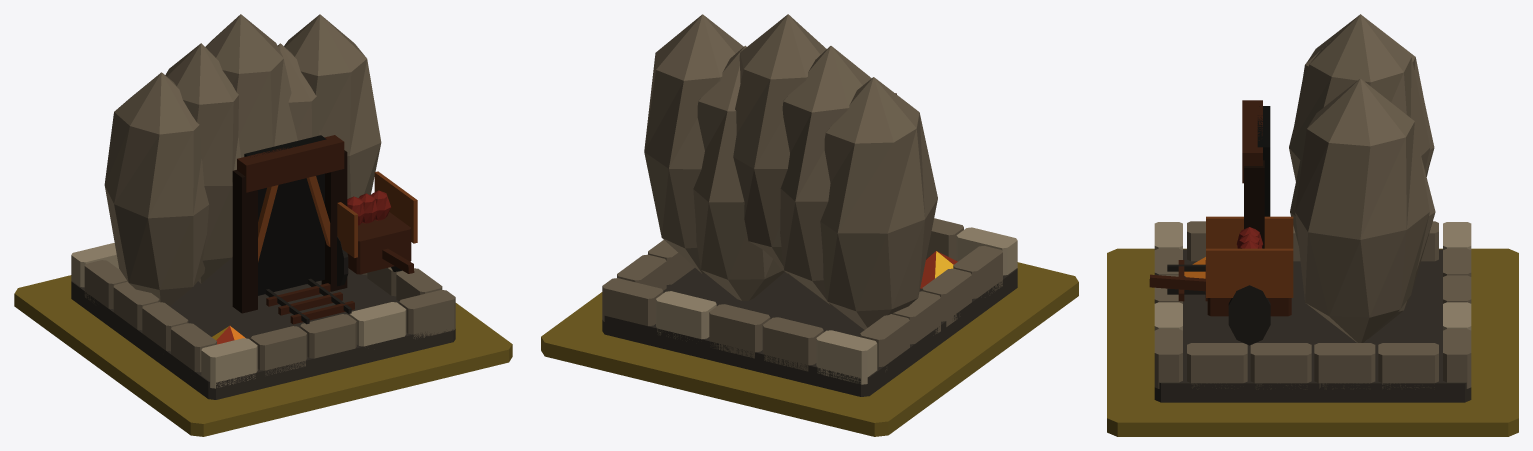
The model's file is emberglass_t3.glb.
The picture shows the model from 3 angles, left to right: view 1: azimuth 30°, elevation 25°; view 2: azimuth 150°, elevation 25°; view 3: azimuth 270°, elevation 25°; orthographic projection. The views are drawn at different scales.
Visible parts, largest first — view 1: MMR | emberglass | T03 Architecture.001, MMR | emberglass | Tier 03 Ground.001; view 2: MMR | emberglass | T03 Architecture.001, MMR | emberglass | Tier 03 Ground.001, MMR | emberglass | T03 Autumn Dressing.001; view 3: MMR | emberglass | T03 Architecture.001, MMR | emberglass | Tier 03 Ground.001.
Part boxes in pixels (x1,y1,x2,y2): MMR | emberglass | T03 Architecture.001: (71,14,455,399); MMR | emberglass | Tier 03 Ground.001: (14,275,512,436); MMR | emberglass | T03 Architecture.001: (602,14,1017,396); MMR | emberglass | Tier 03 Ground.001: (541,262,1078,436); MMR | emberglass | T03 Autumn Dressing.001: (920,251,957,288); MMR | emberglass | T03 Architecture.001: (1149,14,1471,402); MMR | emberglass | Tier 03 Ground.001: (1107,248,1518,436).
Size of the model in its own units: 1.3 by 1.17 by 1.3.
Materials: 1 (1 with a texture image).
